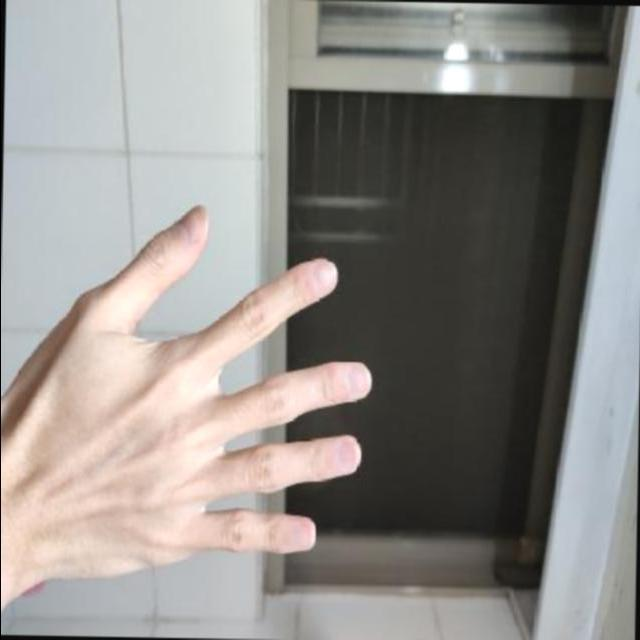hand: (0, 193, 382, 616)
